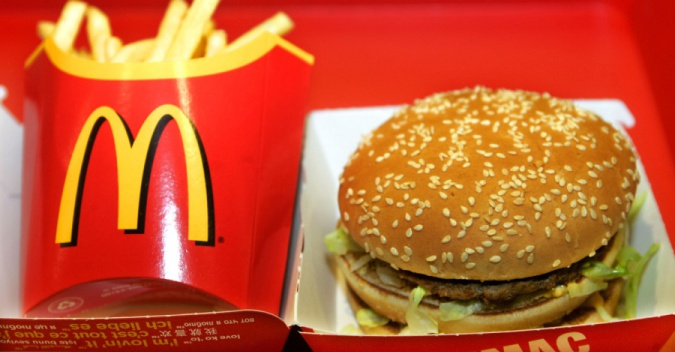mcdonalds: (58, 96, 221, 256)
